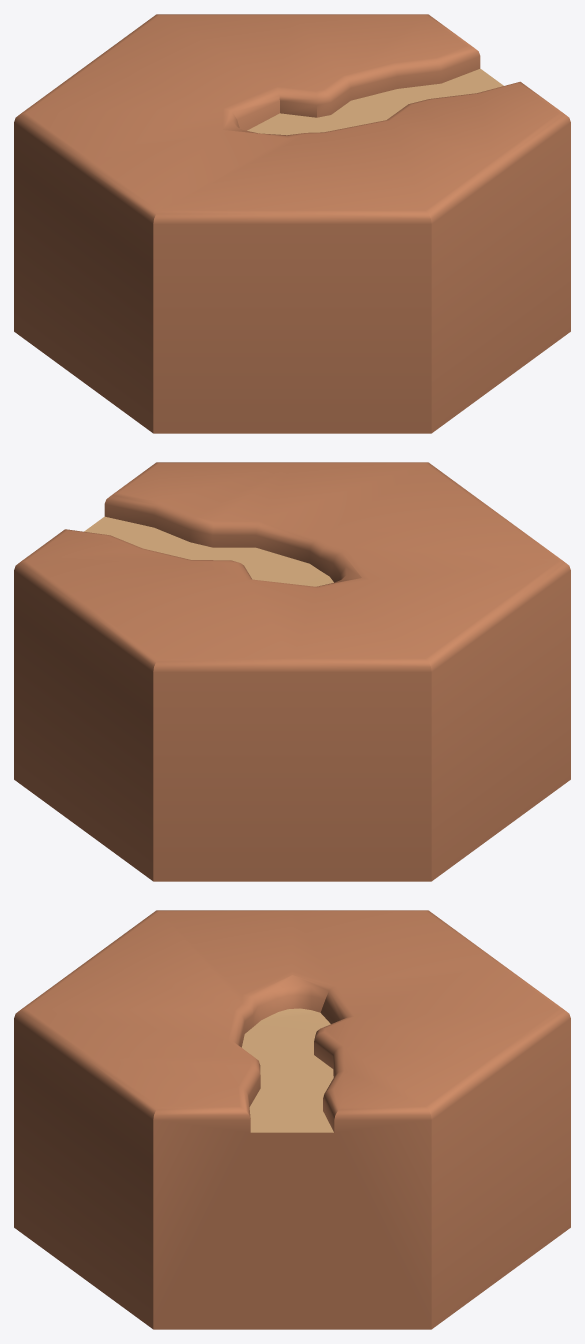
The model's file is hex_rock_roadA.glb.
3 renders of one model, top to bottom at view 1: azimuth 30°, elevation 25°; view 2: azimuth 150°, elevation 25°; view 3: azimuth 270°, elevation 25°, orthographic.
Parts seen in each view (by area): view 1: hex_rock_roadA; view 2: hex_rock_roadA; view 3: hex_rock_roadA.
Boxes of the visible parts, x1,y1,x2,y2 form: hex_rock_roadA: (14, 14, 570, 433); hex_rock_roadA: (14, 462, 570, 881); hex_rock_roadA: (14, 910, 570, 1329).
Size of the model in its own units: 2 by 1 by 2.31.
